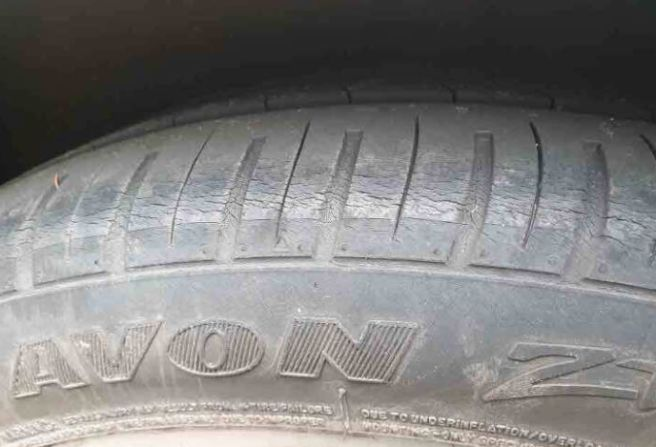bad_condition: (3, 73, 656, 284)
